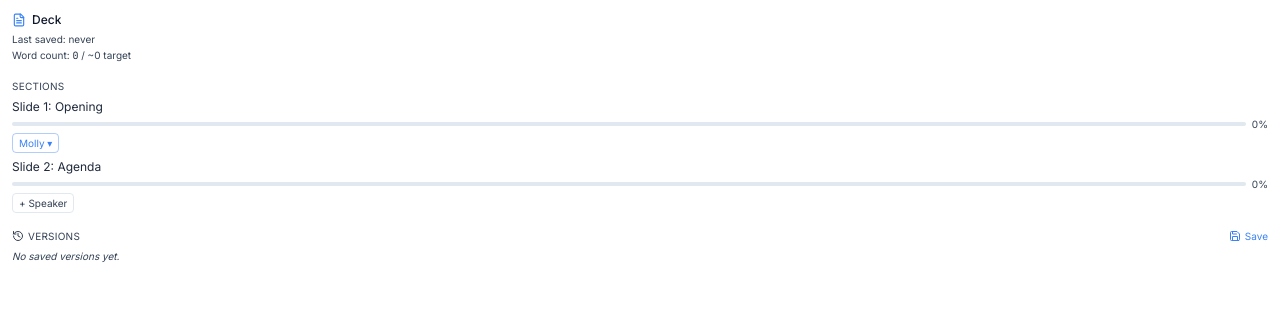
Test: EditorNavigator — speaker assignment › offers previously-used names as dropdown suggestions
Step 1. Click the button "+ Speaker" → (43, 203), box [12, 193, 74, 213]
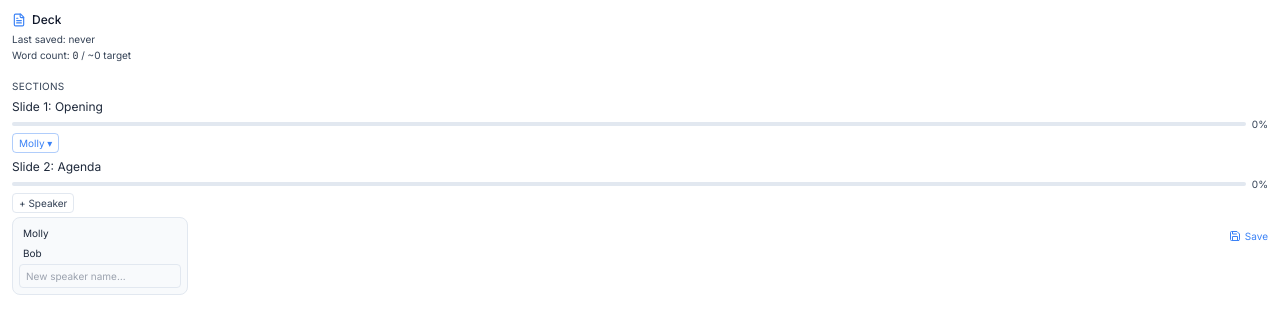
Result: the button "Molly" is shown at [19, 224, 181, 242]
Result: the button "Bob" is shown at [19, 244, 181, 262]
